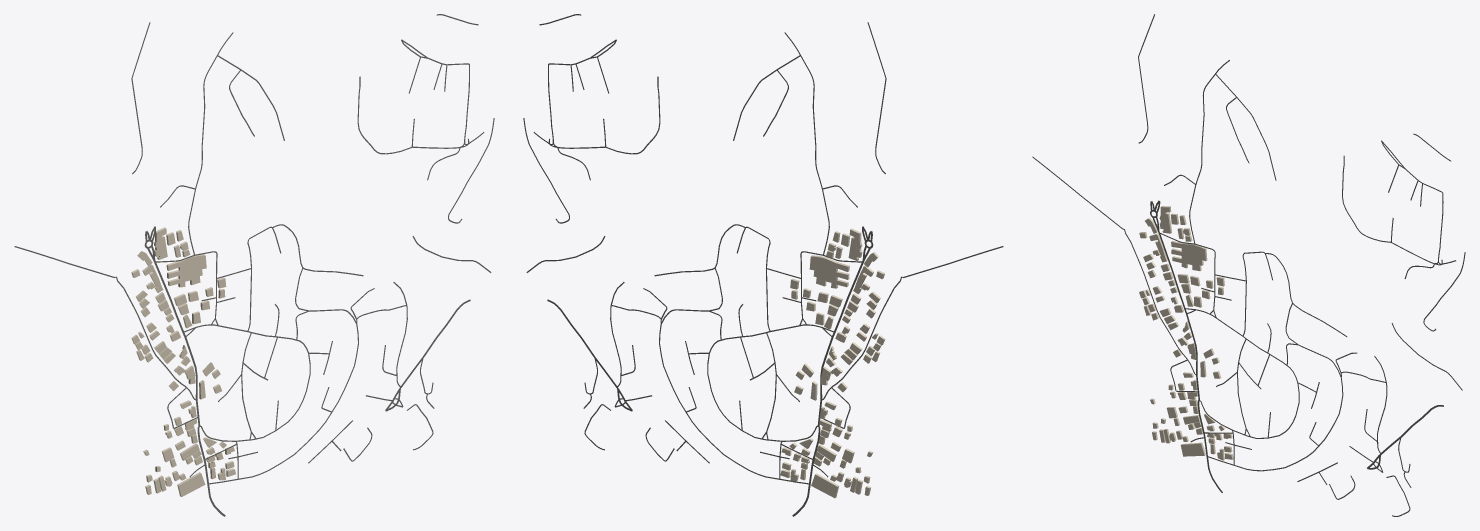
The model's file is salt_3573_3204.glb.
3 renders of one model, left to right at view 1: azimuth 30°, elevation 25°; view 2: azimuth 150°, elevation 25°; view 3: azimuth 330°, elevation 25°, orthographic. The views are drawn at different scales.
Visible parts, largest first — view 1: Building_.069, Road .052, Road .013; view 2: Building_.069, Road .052, Road .013; view 3: Building_.069, Road .052.
Part boxes in pixels (left/top/right/bottom): Building_.069: left=166, top=254, right=206, bottom=287; Road .052: left=153, top=260, right=225, bottom=516; Road .013: left=208, top=309, right=358, bottom=484; Building_.069: left=809, top=255, right=849, bottom=288; Road .052: left=792, top=260, right=864, bottom=516; Road .013: left=659, top=309, right=809, bottom=484; Building_.069: left=1171, top=241, right=1207, bottom=270; Road .052: left=1158, top=231, right=1222, bottom=492.
Bounding box in the file's own units: 1349 × 1377 × 8.7.
